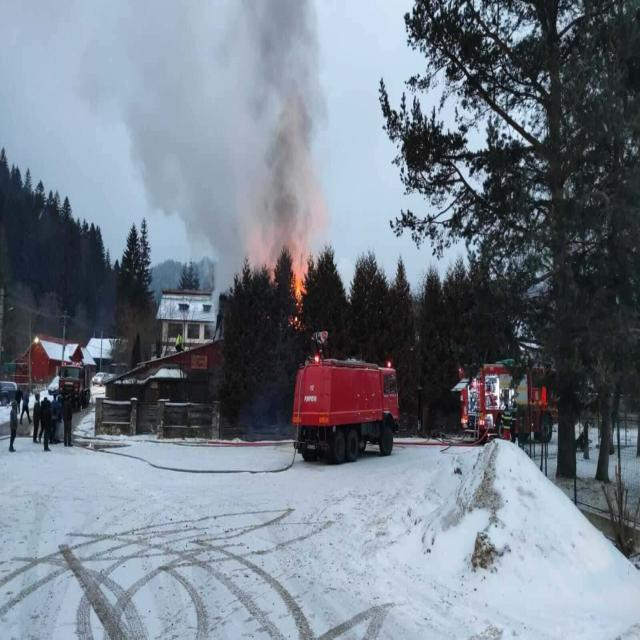Fire: (293, 268, 306, 316)
Smoke: (232, 0, 334, 257)
